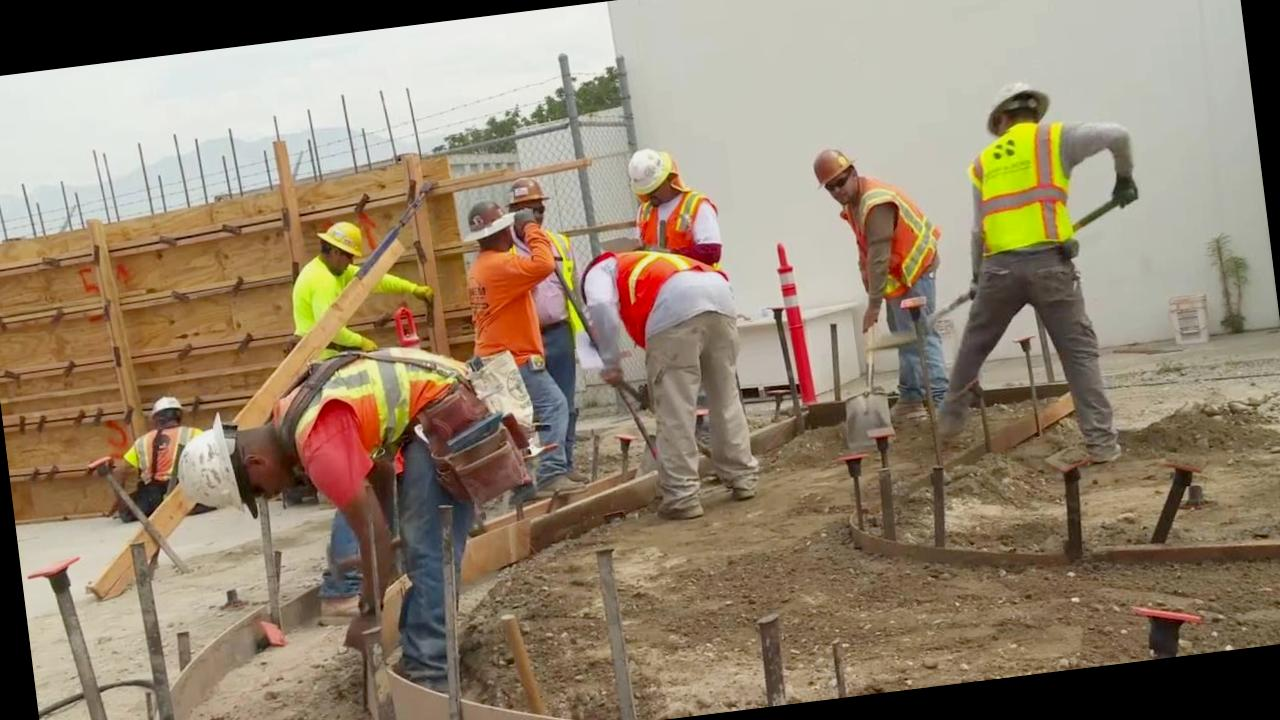helmet: (164, 406, 257, 540), (971, 66, 1055, 131), (614, 138, 681, 207), (800, 138, 862, 197), (454, 192, 523, 245), (311, 212, 369, 268)
person: (164, 324, 568, 702), (926, 60, 1176, 476), (573, 227, 788, 515), (800, 125, 981, 429), (439, 180, 583, 493)
